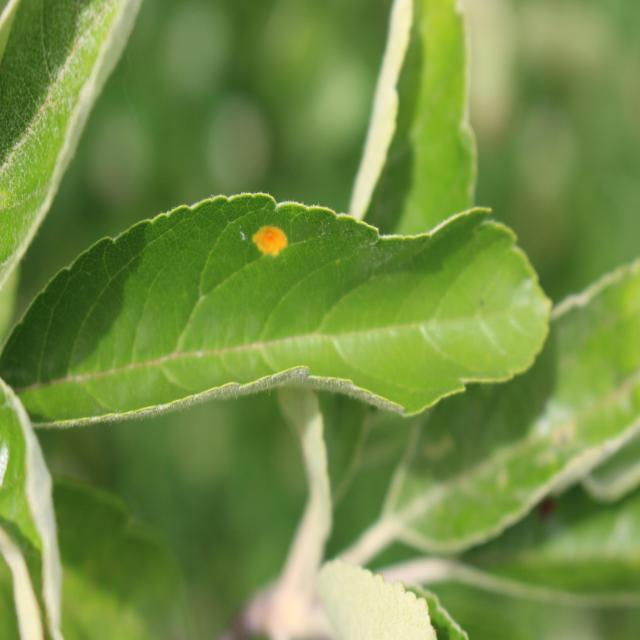Rust: (234, 208, 296, 269)
